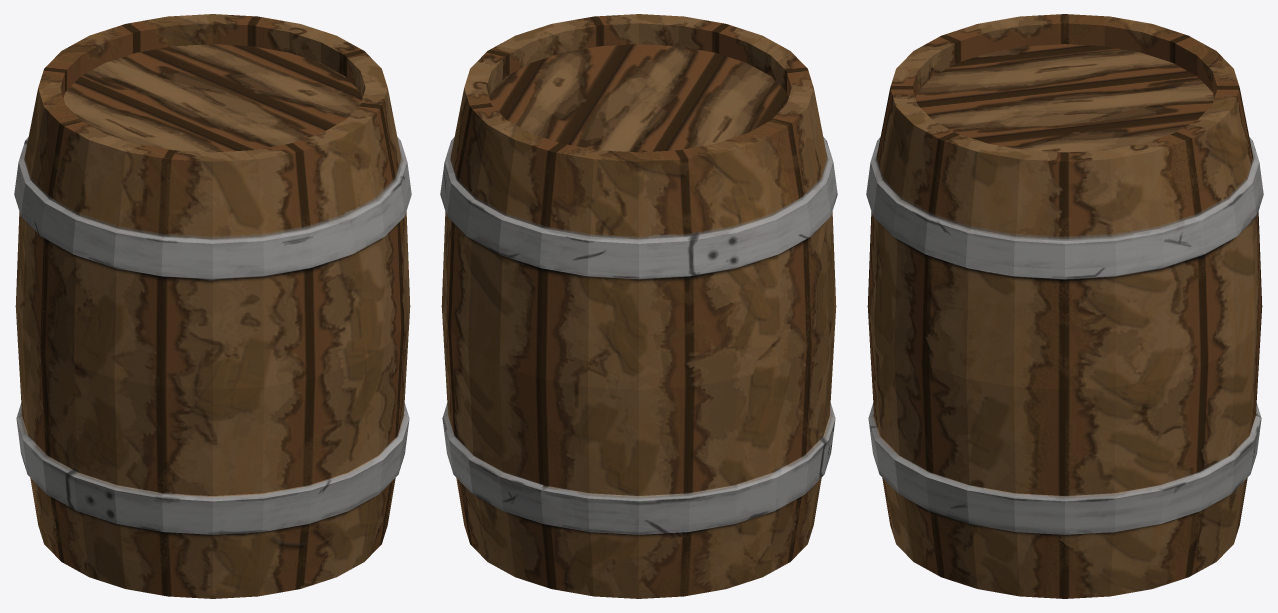
Rendered from barrel.glb.
3 renders of one model, left to right at view 1: azimuth 30°, elevation 25°; view 2: azimuth 150°, elevation 25°; view 3: azimuth 270°, elevation 25°, orthographic.
Bounding box in the file's own units: 2.06 × 2.5 × 2.06.
Materials: 1 (1 with a texture image).
